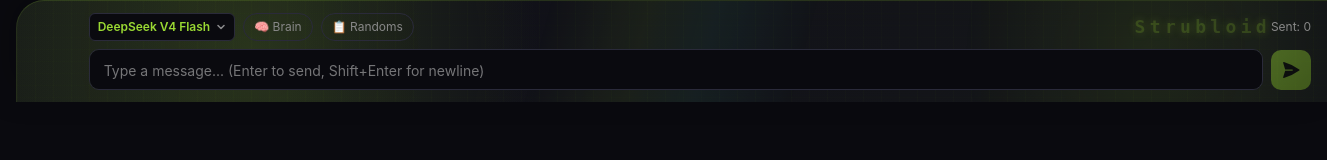
ChatComposer › disables textarea while sending
The image size is (1327, 160).
Type "message" into the text box with placeholder "Type a message... (Enter to send, Shift+Enter for newline)" at coordinates (676, 70), box left=89, top=49, right=1263, bottom=90
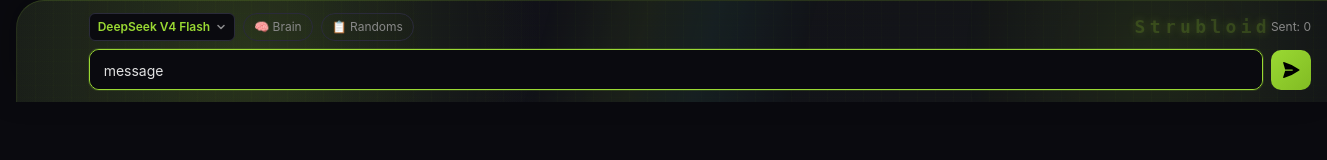
Press Enter
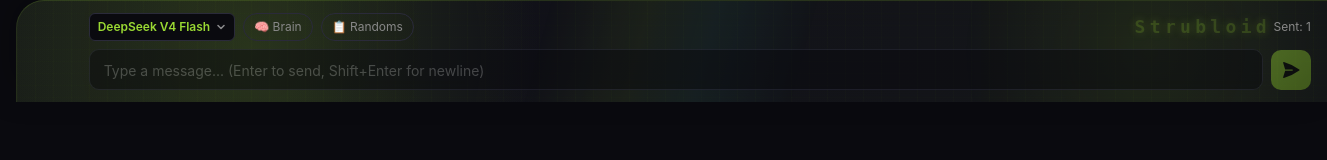
Result: the text box with placeholder "Type a message... (Enter to send, Shift+Enter for newline)" is disabled at left=89, top=49, right=1263, bottom=90
